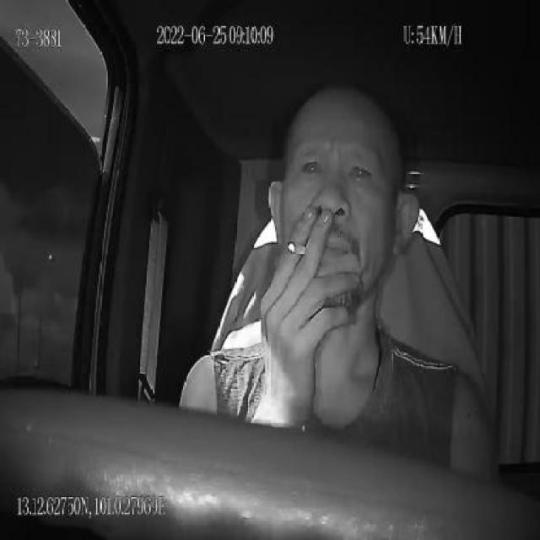smoking: (288, 239, 307, 255)
